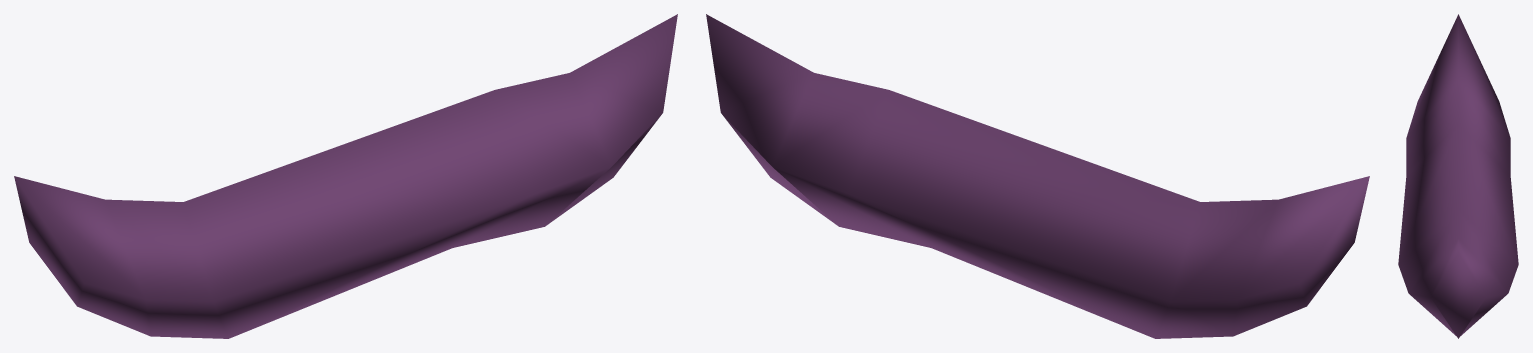
Rendered from lacune.fbx_WhaleUnder001.fbx.
3 views of the same model, side by side, from view 1: azimuth 30°, elevation 25°; view 2: azimuth 150°, elevation 25°; view 3: azimuth 270°, elevation 25° (orthographic). The views are drawn at different scales.
Visible parts, largest first — view 1: WhaleUnder001; view 2: WhaleUnder001; view 3: WhaleUnder001.
Boxes of the visible parts, x1=… form: WhaleUnder001: x1=14, y1=14, x2=677, y2=338; WhaleUnder001: x1=706, y1=14, x2=1369, y2=338; WhaleUnder001: x1=1398, y1=14, x2=1518, y2=338.
Size of what is drawn, in the model's own units: 10086 by 3126 by 2147.
